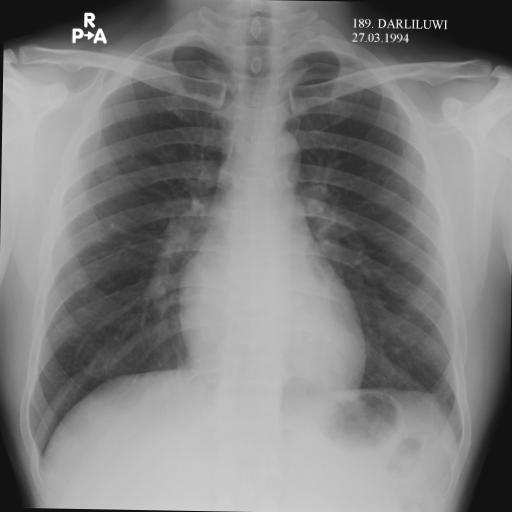normal: (20, 14, 482, 469)
